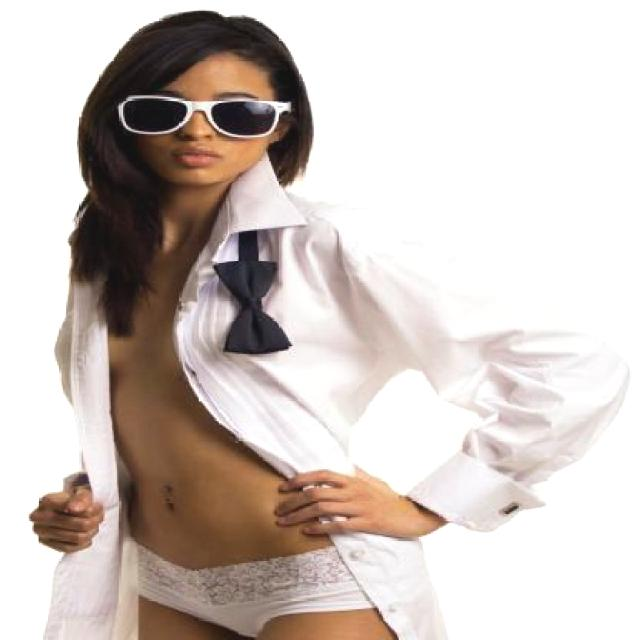face_nomask: (135, 92, 277, 174)
glasses: (115, 95, 290, 138)
hand_noglove: (272, 455, 408, 551), (26, 482, 109, 556)
head_nohelmet: (126, 10, 286, 78)
person: (26, 15, 420, 640)
